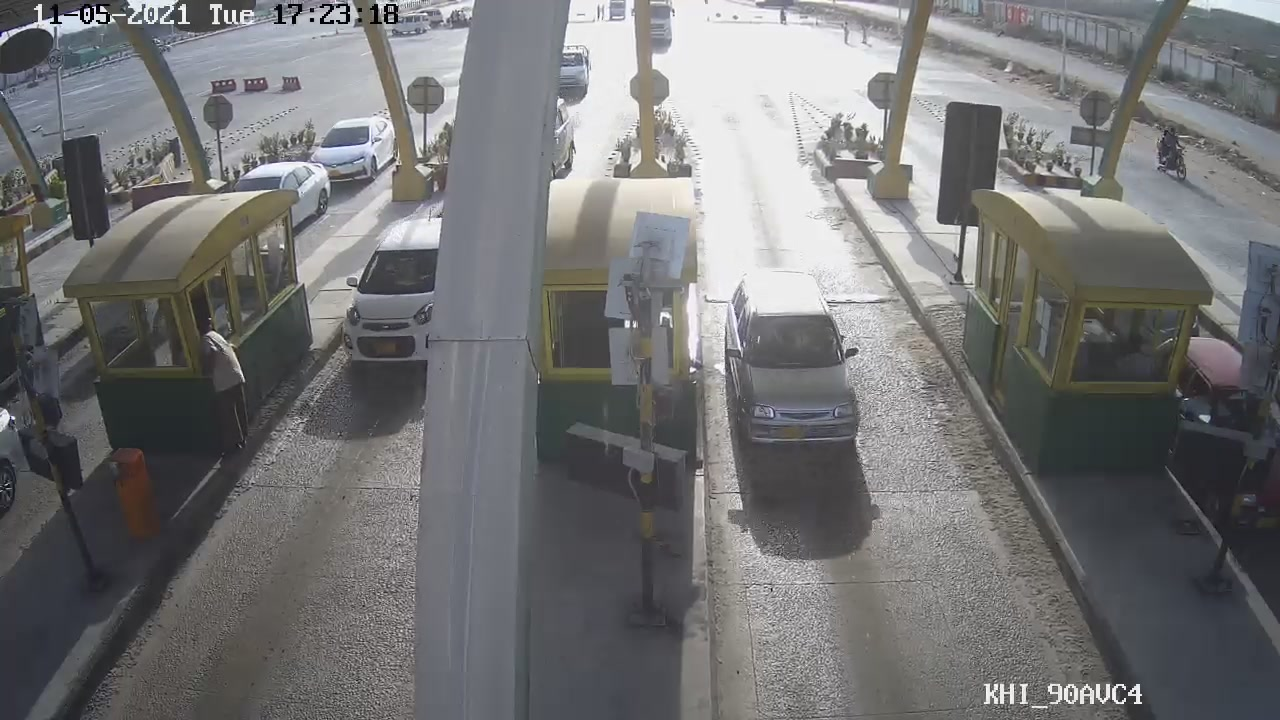F1: (714, 272, 868, 441)
